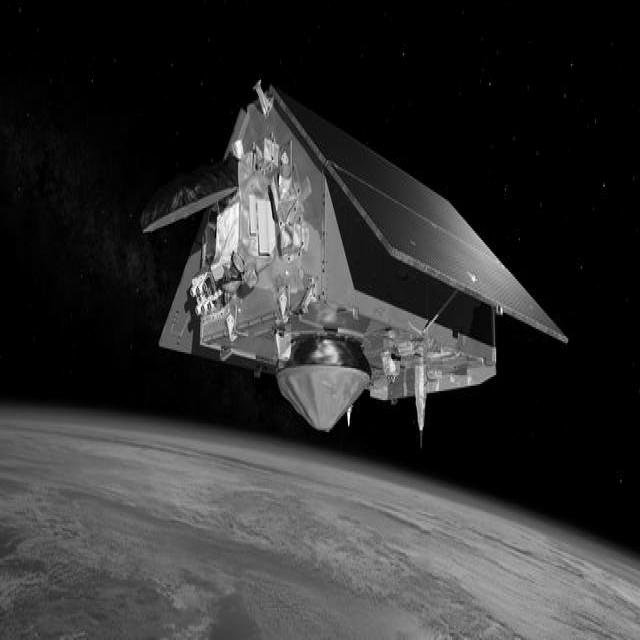satellite: (152, 74, 562, 475)
